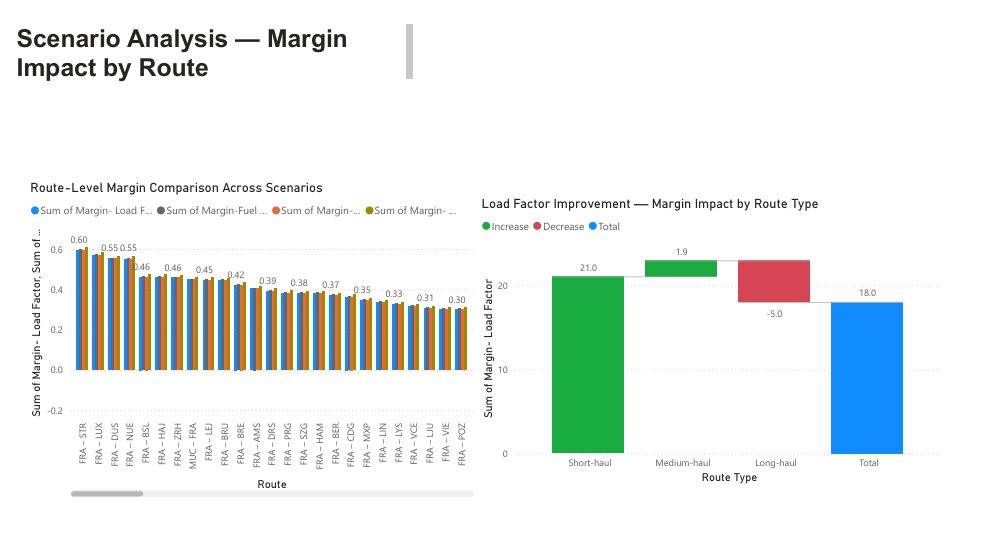

The page's visual inventory and layout, read from the dashboard file:
{"tool":"powerbi","page":{"name":"Scenario Analysis — Margin Impact by Route","canvas":[1280,720],"ordinal":1},"visuals":[{"type":"clusteredColumnChart","title":"Route-Level Margin Comparison Across Scenarios","fields":{"Category":["airline_scenario_dashboard.Route"],"Y":["Sum(airline_scenario_dashboard.Margin- Load Factor)","Sum(airline_scenario_dashboard.Margin-Fuel Scenario)","Sum(airline_scenario_dashboard.Margin-Baseline)","Sum(airline_scenario_dashboard.Margin- Ancillary)"]},"box":[18.3,223.3,583.3,415],"z":0},{"type":"waterfallChart","title":"Load Factor Improvement — Margin Impact by Route Type","fields":{"Category":["airline_scenario_dashboard.Route Type"],"Y":["Sum(airline_scenario_dashboard.Margin- Load Factor)"]},"box":[601.7,243.3,608.3,376.7],"z":1},{"type":"textbox","box":[0,16.7,523.3,90],"z":2}]}

Visuals, with their boxes in screenshot pixels (x1, y1, x2, y2), scaled from the page's 1280x720 canvas onto the 995x550 screenshot:
"Route-Level Margin Comparison Across Scenarios" clusteredColumnChart: bbox(14, 171, 468, 488)
"Load Factor Improvement — Margin Impact by Route Type" waterfallChart: bbox(468, 186, 941, 474)
textbox: bbox(0, 13, 407, 82)
